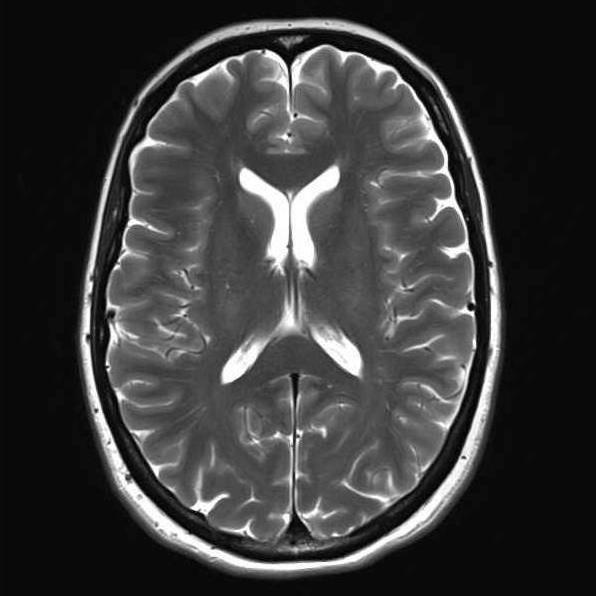Normal_Brain: (48, 13, 567, 596)
